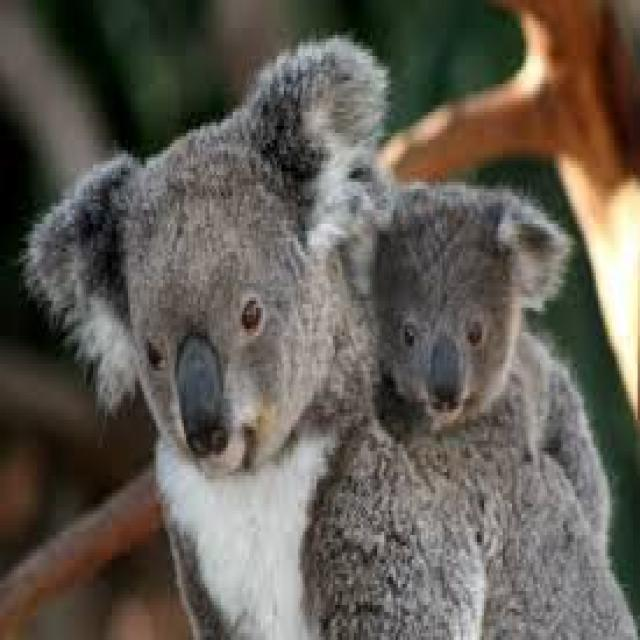Koala: (20, 35, 409, 640), (310, 154, 636, 640)
